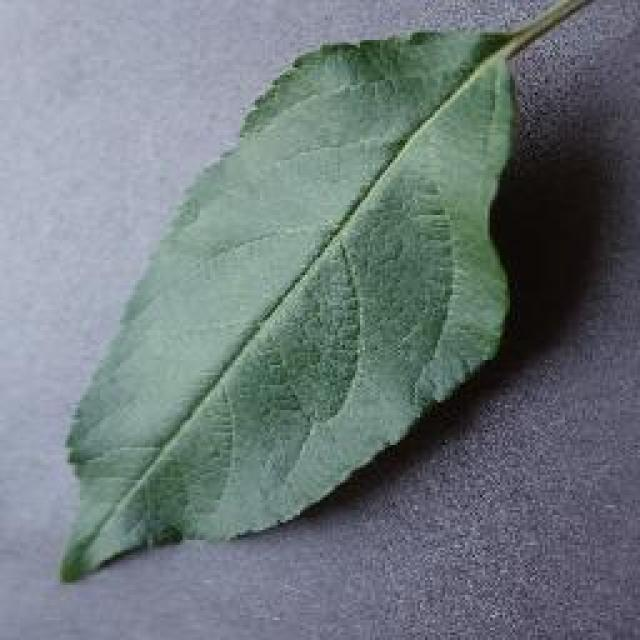apple healthy: (54, 0, 637, 582)
